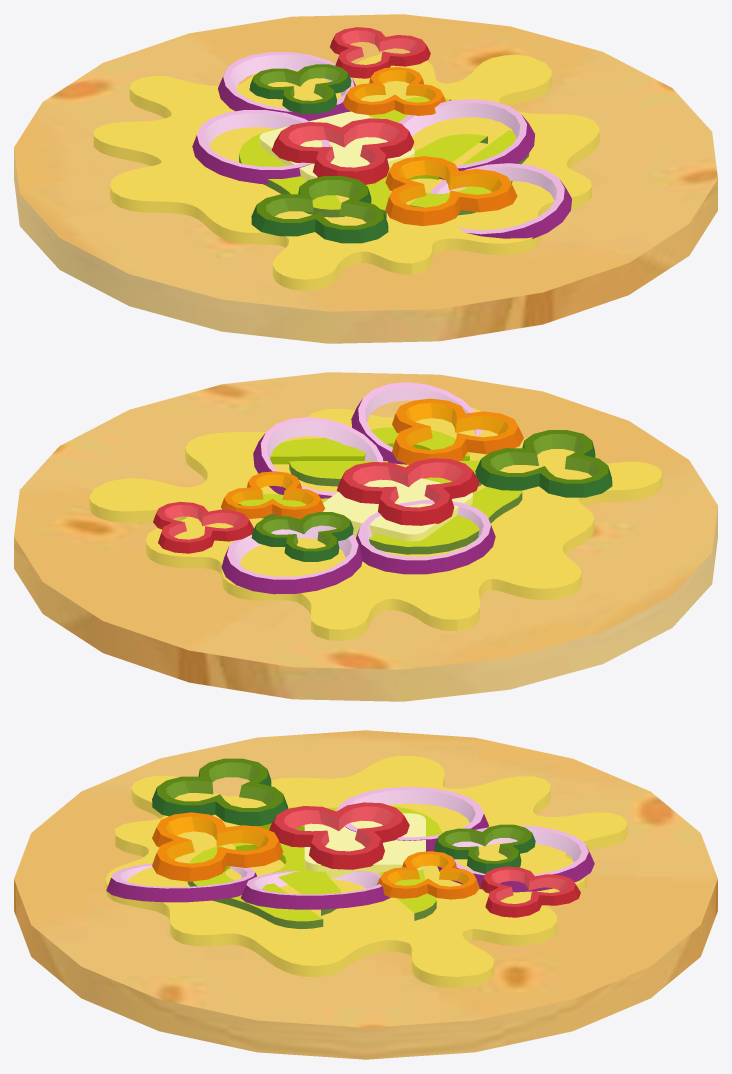
The model's file is taco_Cebolla_Aguacate_Pimiento_Salsa.glb.
3 renders of one model, top to bottom at view 1: azimuth 30°, elevation 25°; view 2: azimuth 150°, elevation 25°; view 3: azimuth 270°, elevation 25°, orthographic.
Visible parts, largest first — view 1: tortilla.002, Melted_Butter_Butter_0, Pepper_Slice_Pepper_0, Pepper_Slice_Pepper_0.001, Onion_Slice_Onion_0, Onion_Slice_Onion_0.001, Avocado_Slice_Avocado_0; view 2: tortilla.002, Melted_Butter_Butter_0, Pepper_Slice_Pepper_0, Pepper_Slice_Pepper_0.001, Avocado_Slice_Avocado_0, Onion_Slice_Onion_0, Onion_Slice_Onion_0.001; view 3: tortilla.002, Melted_Butter_Butter_0, Pepper_Slice_Pepper_0, Pepper_Slice_Pepper_0.001, Onion_Slice_Onion_0.001, Avocado_Slice_Avocado_0, Onion_Slice_Onion_0.
Part boxes in pixels (x1,y1,x2,y2): tortilla.002: (14, 14, 717, 343); Melted_Butter_Butter_0: (93, 54, 599, 290); Pepper_Slice_Pepper_0: (251, 118, 517, 243); Pepper_Slice_Pepper_0.001: (249, 27, 445, 115); Onion_Slice_Onion_0: (192, 52, 355, 184); Onion_Slice_Onion_0.001: (398, 99, 571, 238); Avocado_Slice_Avocado_0: (239, 97, 529, 218); tortilla.002: (14, 372, 717, 701); Melted_Butter_Butter_0: (89, 407, 662, 640); Pepper_Slice_Pepper_0: (337, 398, 612, 525); Pepper_Slice_Pepper_0.001: (153, 471, 353, 561); Avocado_Slice_Avocado_0: (238, 427, 522, 554); Onion_Slice_Onion_0: (221, 500, 495, 594); Onion_Slice_Onion_0.001: (253, 382, 482, 498); tortilla.002: (14, 730, 717, 1059); Melted_Butter_Butter_0: (105, 755, 627, 988); Pepper_Slice_Pepper_0: (152, 758, 409, 881); Pepper_Slice_Pepper_0.001: (377, 824, 580, 917); Onion_Slice_Onion_0.001: (106, 863, 390, 909); Avocado_Slice_Avocado_0: (187, 805, 442, 928); Onion_Slice_Onion_0: (336, 786, 594, 892).
Bounding box in the file's own units: 0.2118 × 0.0248 × 0.2118.
Materials: 5 (5 with a texture image).
